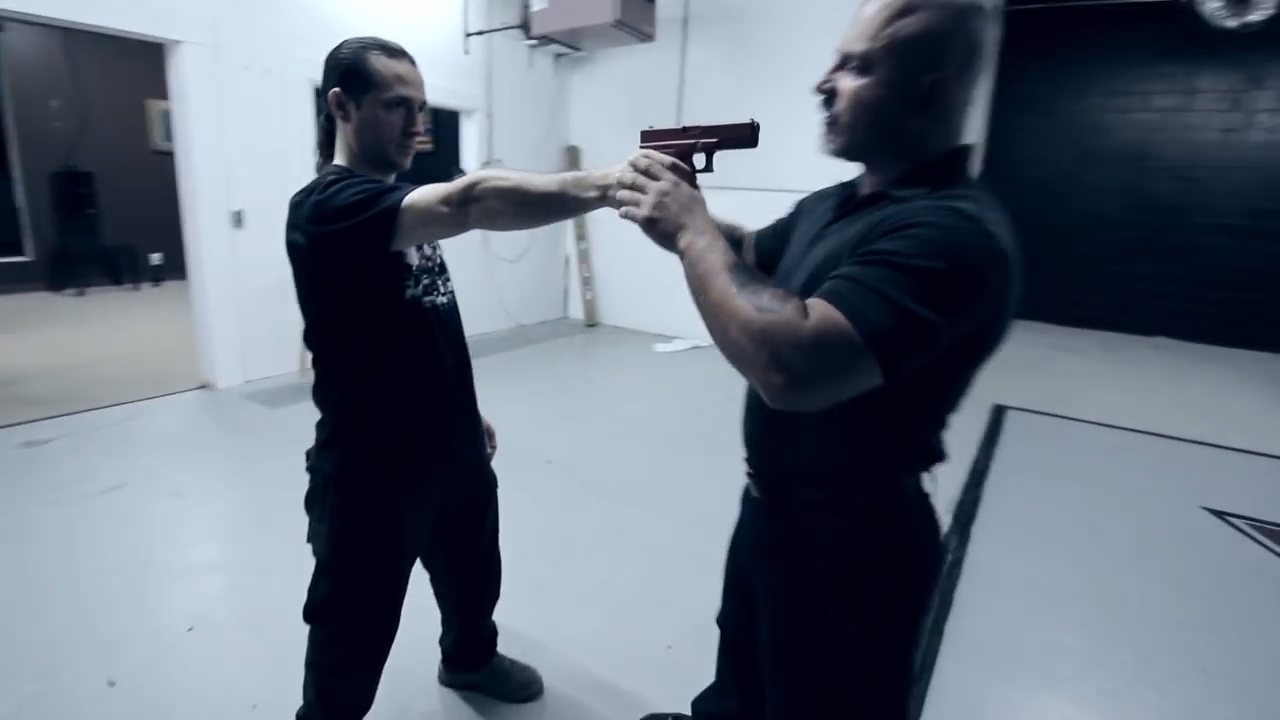pistol: (637, 117, 761, 180)
